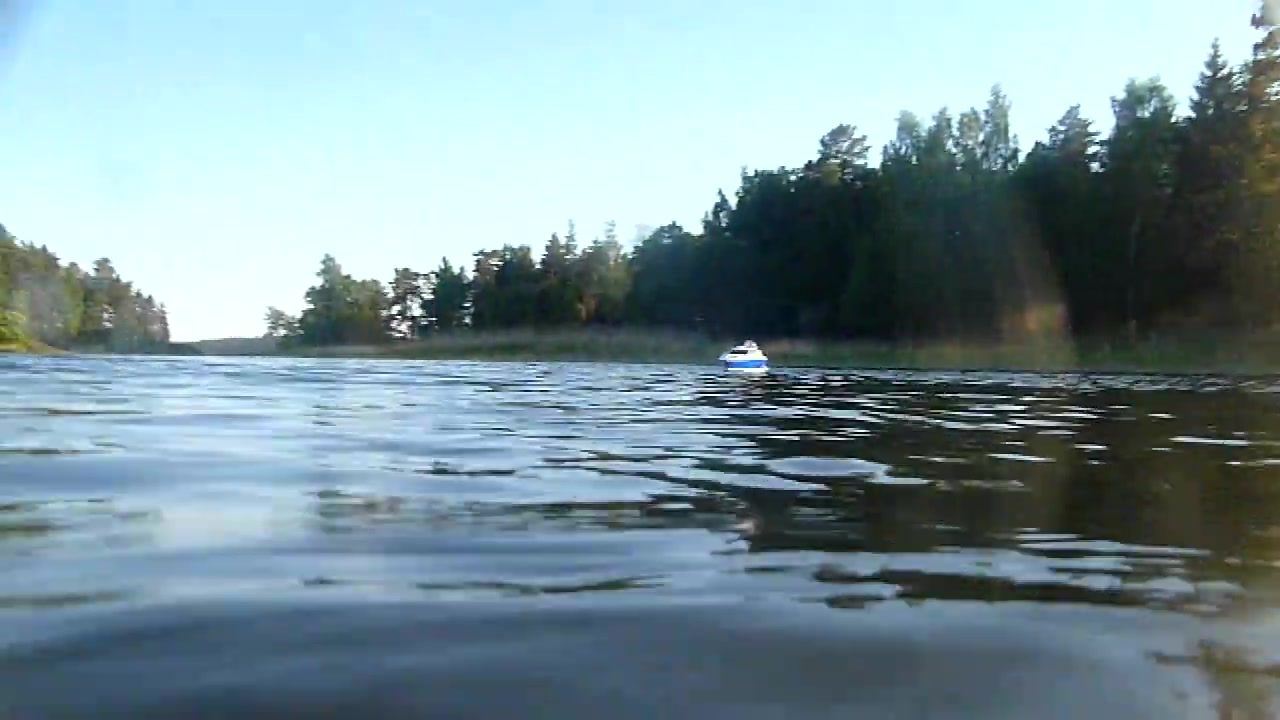boat: (715, 337, 773, 377)
